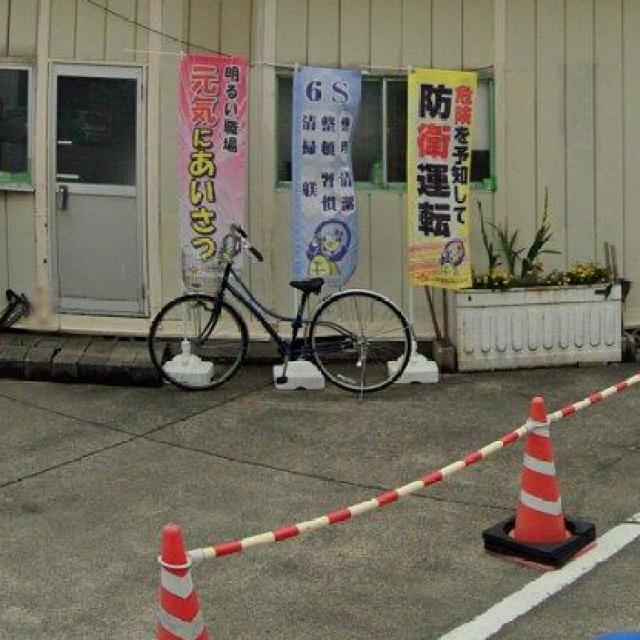bicycle: (151, 225, 414, 393)
